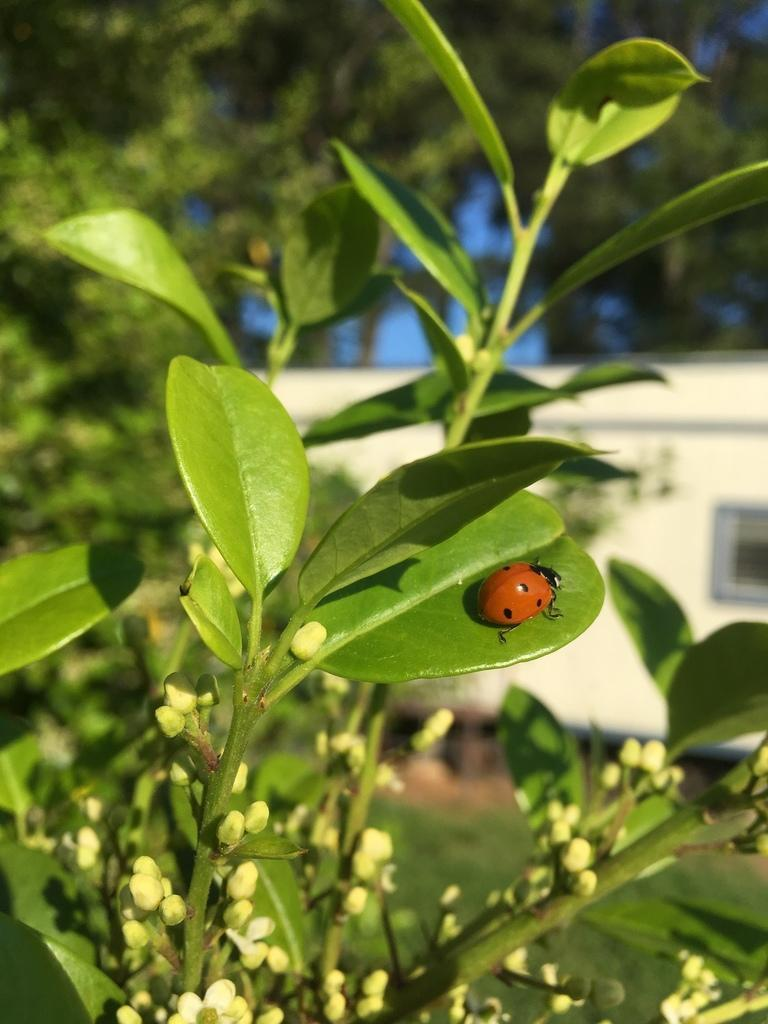ladybug: (466, 554, 571, 649)
